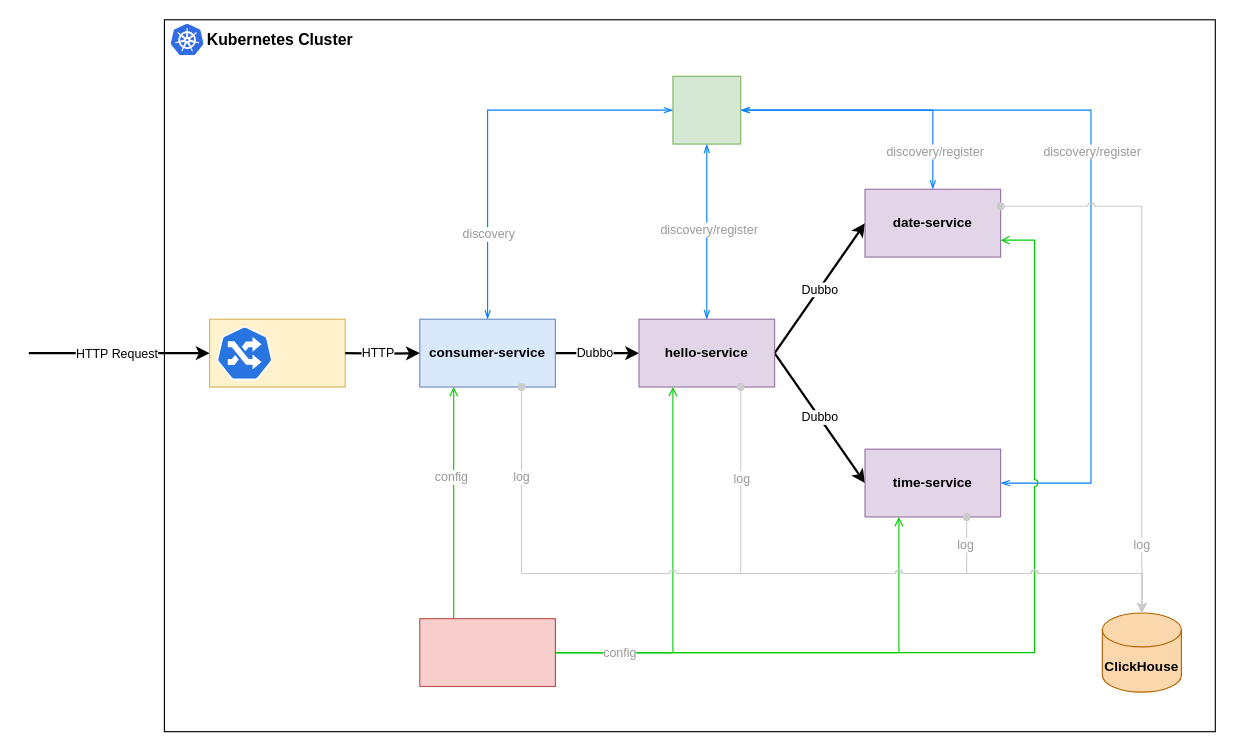
This 1235x751 diagram has some shape labels left out. Each missing label, with the box of its shape:
Ingress Controller: (208, 318, 345, 387)
mock-service: (419, 618, 555, 686)
ZK: (672, 75, 741, 144)
